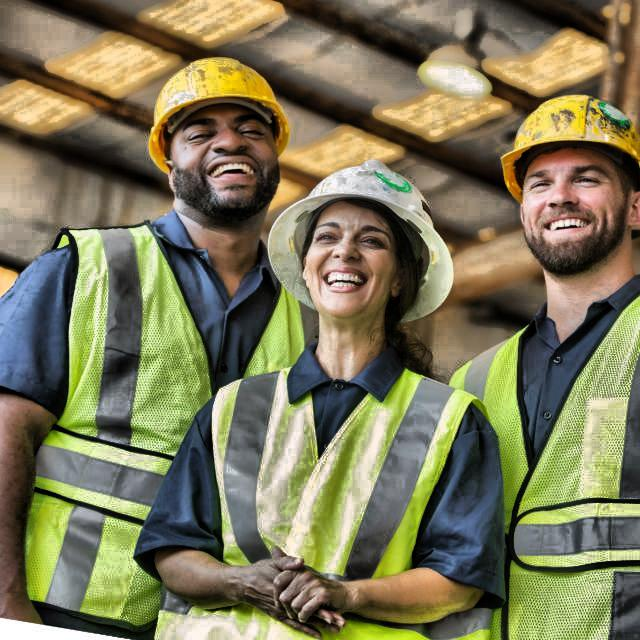person: (65, 52, 312, 640), (241, 160, 467, 640), (466, 84, 640, 639)
